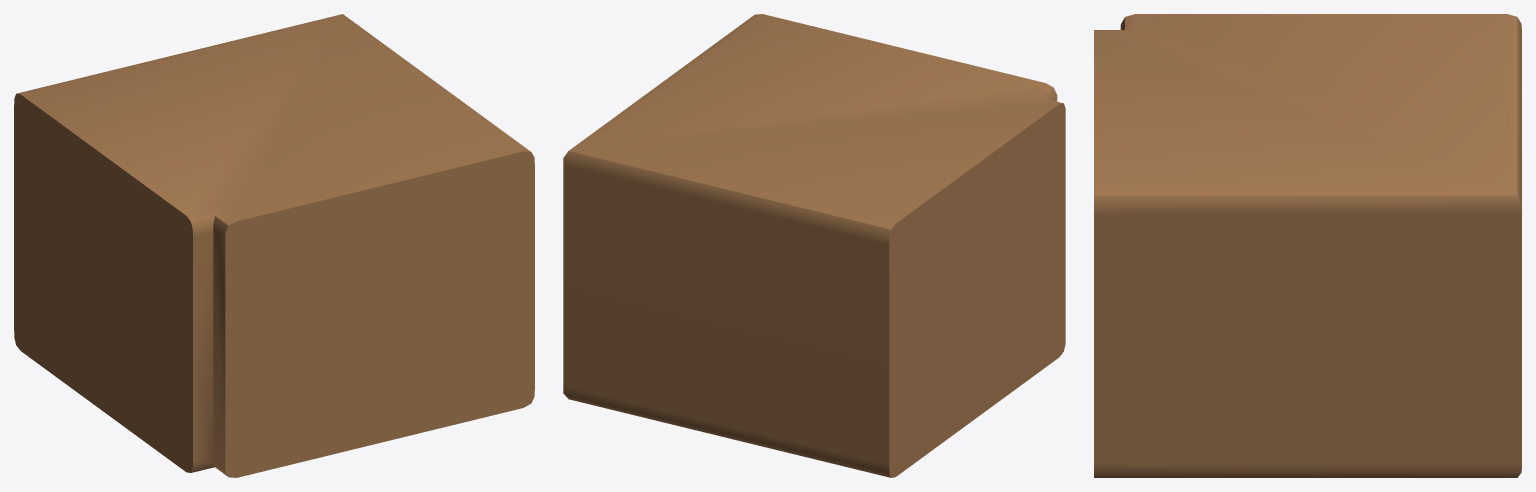
Rendered from quaternius-sushi-restaurant-environment-cabinet-corner.glb.
3 views of the same model, side by side, from view 1: azimuth 30°, elevation 25°; view 2: azimuth 150°, elevation 25°; view 3: azimuth 270°, elevation 25° (orthographic). The views are drawn at different scales.
Visible parts, largest first — view 1: Environment_Cabinet_Corner; view 2: Environment_Cabinet_Corner; view 3: Environment_Cabinet_Corner.
Part boxes in pixels (<box>): Environment_Cabinet_Corner: <box>14,14,534,477</box>; Environment_Cabinet_Corner: <box>563,14,1065,477</box>; Environment_Cabinet_Corner: <box>1094,14,1521,477</box>.
Bounding box in the file's own units: 1.88 × 1.4 × 1.88.
1 material, 1 textured.
